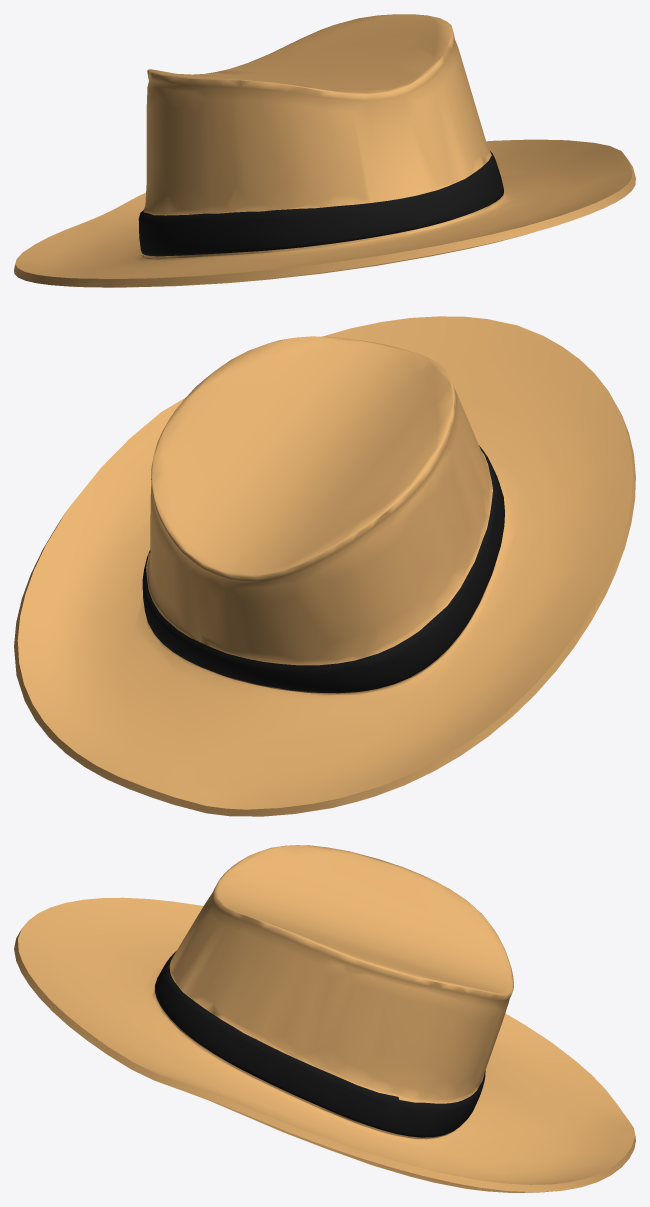
File: headwear-hat-yellow-83aa0e06.glb
3 views of the same model, one above another, from view 1: azimuth 30°, elevation 25°; view 2: azimuth 150°, elevation 25°; view 3: azimuth 270°, elevation 25° (orthographic). The views are drawn at different scales.
Visible parts, largest first — view 1: Geo_White_Older_Female_Hat_Yellow.001; view 2: Geo_White_Older_Female_Hat_Yellow.001; view 3: Geo_White_Older_Female_Hat_Yellow.001.
Part boxes in pixels (box(x1,y1,x2,y2)): Geo_White_Older_Female_Hat_Yellow.001: box(14, 14, 635, 287); Geo_White_Older_Female_Hat_Yellow.001: box(14, 316, 635, 816); Geo_White_Older_Female_Hat_Yellow.001: box(14, 845, 635, 1192).
Size of the model in its own units: 3.33 by 1.85 by 4.01.
